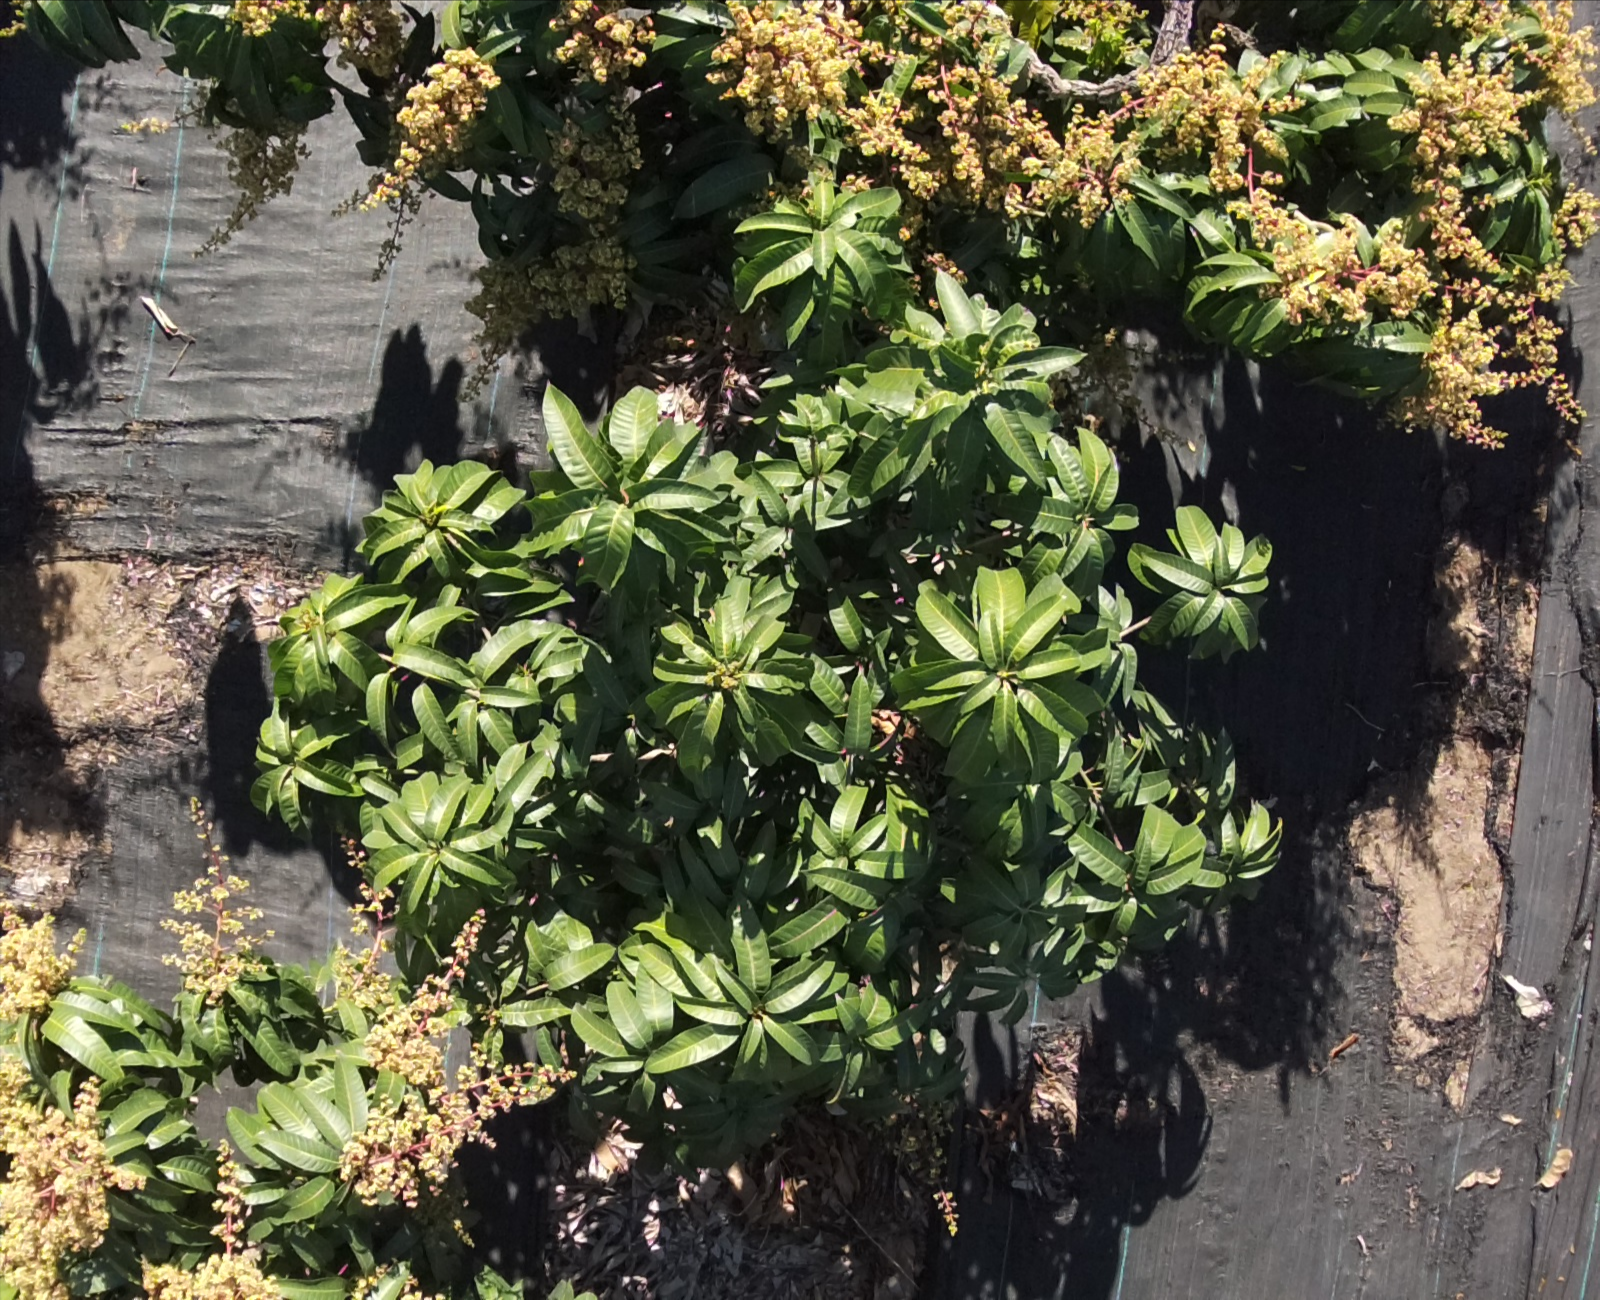flowers: (707, 0, 1140, 223), (336, 914, 568, 1207), (1264, 215, 1559, 439), (1023, 0, 1301, 215), (0, 1056, 143, 1299), (161, 800, 272, 1004), (142, 1139, 283, 1299), (1388, 56, 1527, 168), (394, 48, 500, 183), (0, 902, 85, 1019), (551, 0, 655, 84), (1524, 0, 1599, 115), (1041, 0, 1142, 61), (230, 0, 398, 34), (1421, 184, 1489, 269), (344, 838, 393, 939), (214, 1139, 248, 1254), (349, 1262, 447, 1299), (1428, 0, 1508, 42), (1554, 184, 1599, 248)
